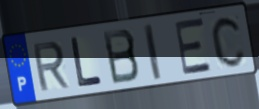B: (101, 27, 142, 87)
C: (210, 14, 248, 70)
E: (173, 16, 214, 77)
I: (142, 21, 164, 82)
L: (68, 35, 105, 90)
R: (30, 39, 71, 94)
